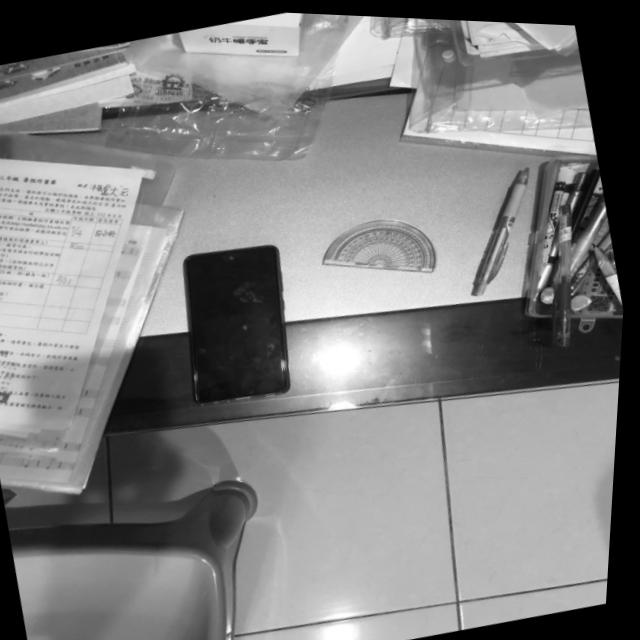Smartphone: (166, 234, 313, 409)
